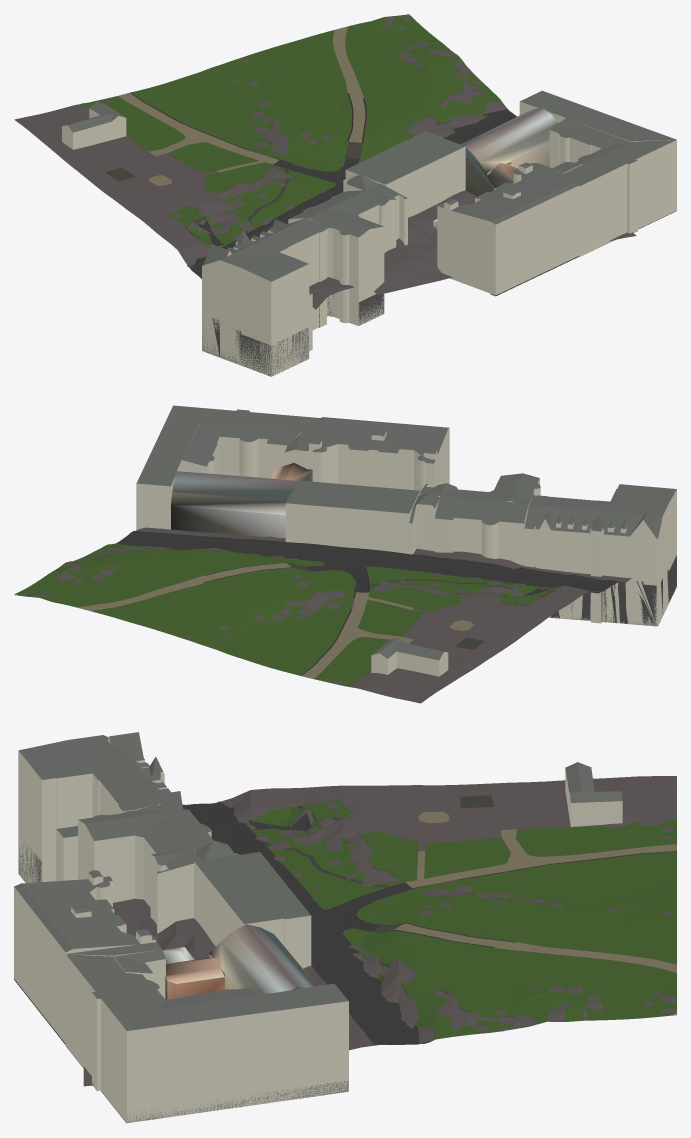
3 views of the same model, one above another, from view 1: azimuth 30°, elevation 25°; view 2: azimuth 150°, elevation 25°; view 3: azimuth 270°, elevation 25° (orthographic). The views are drawn at different scales.
Visible parts, largest first — view 1: c_m01_p07; view 2: c_m01_p07; view 3: c_m01_p07.
Part boxes in pixels (left/top/right/bottom): c_m01_p07: left=14, top=14, right=676, bottom=376; c_m01_p07: left=14, top=405, right=676, bottom=703; c_m01_p07: left=14, top=732, right=676, bottom=1123.
Size of the model in its own units: 153 by 32.94 by 143.
